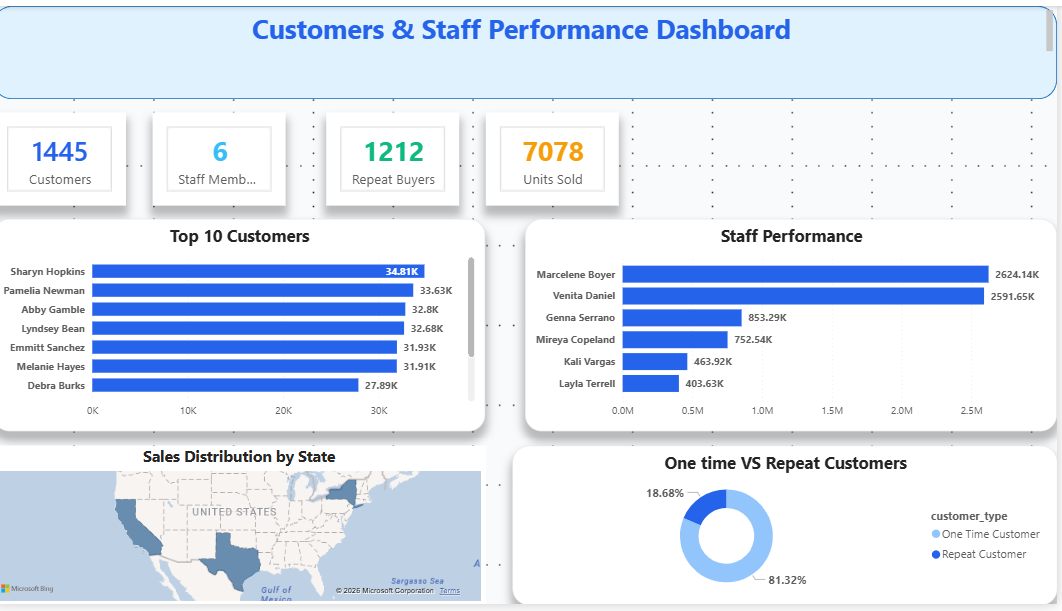

This screenshot's page, from the dashboard's own definition file:
{"tool":"powerbi","page":{"name":"Customers","canvas":[1280,720],"ordinal":2},"visuals":[{"type":"shape","box":[0,0,1280,112],"z":0},{"type":"textbox","box":[0,0,1280,64],"z":1000},{"type":"cardVisual","fields":{"Data":["customer_measures.Total Customers"]},"box":[0,128,160,112],"z":2000},{"type":"cardVisual","fields":{"Data":["customer_measures.Total Staff"]},"box":[192,128,160,112],"z":3000},{"type":"cardVisual","fields":{"Data":["customer_measures.Repeat Customers"]},"box":[400,128,160,112],"z":4000},{"type":"cardVisual","fields":{"Data":["customer_measures.Products Sold"]},"box":[592,128,160,112],"z":5000},{"type":"barChart","title":"Top 10 Customers","fields":{"Y":["sales_measures.Total Sales"],"Category":["sales_summary_region.customer_name"]},"box":[0,256,592,256],"z":6000},{"type":"barChart","title":"Staff Performance","fields":{"Y":["sales_measures.Total Sales"],"Category":["sales_summary_region.Staff_name"]},"box":[640,256,640,256],"z":7000},{"type":"donutChart","title":"One time VS Repeat Customers","fields":{"Y":["CountNonNull(sales_summary_region.customer_id)"],"Category":["sales_summary_region.customer_type"]},"box":[624,528,656,192],"z":8000},{"type":"filledMap","title":"Sales Distribution by State","fields":{"Category":["sales_summary_region.customer_state"]},"box":[0,528,592,192],"z":8001}]}

Visuals, with their boxes in screenshot pixels (x1, y1, x2, y2), scaled from the page's 1280x720 canvas onto the 1062x611 screenshot:
shape: (x1=0, y1=0, x2=1061, y2=95)
textbox: (x1=0, y1=0, x2=1061, y2=54)
cardVisual - customer_measures.Total Customers: (x1=0, y1=109, x2=133, y2=204)
cardVisual - customer_measures.Total Staff: (x1=159, y1=109, x2=292, y2=204)
cardVisual - customer_measures.Repeat Customers: (x1=332, y1=109, x2=465, y2=204)
cardVisual - customer_measures.Products Sold: (x1=491, y1=109, x2=624, y2=204)
"Top 10 Customers" barChart: (x1=0, y1=217, x2=491, y2=434)
"Staff Performance" barChart: (x1=531, y1=217, x2=1061, y2=434)
"One time VS Repeat Customers" donutChart: (x1=518, y1=448, x2=1061, y2=610)
"Sales Distribution by State" filledMap: (x1=0, y1=448, x2=491, y2=610)
